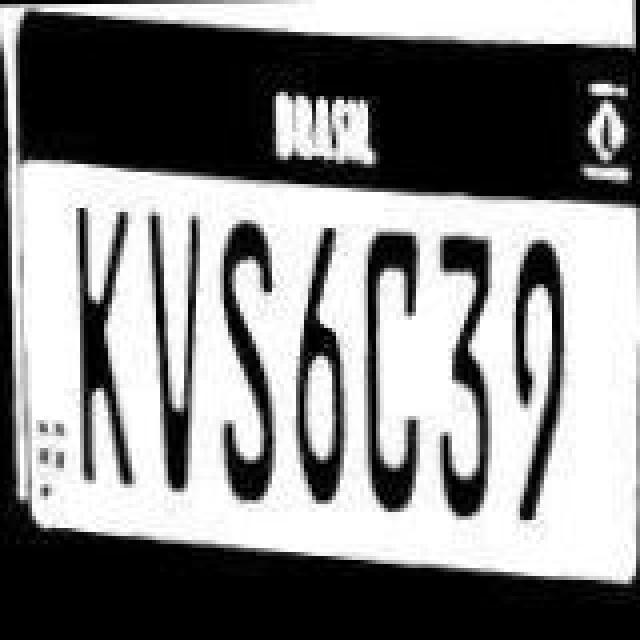3: (430, 226, 498, 522)
6: (274, 214, 350, 522)
9: (500, 234, 576, 542)
C: (358, 216, 426, 516)
K: (64, 202, 144, 510)
S: (210, 222, 286, 526)
V: (144, 214, 208, 526)
